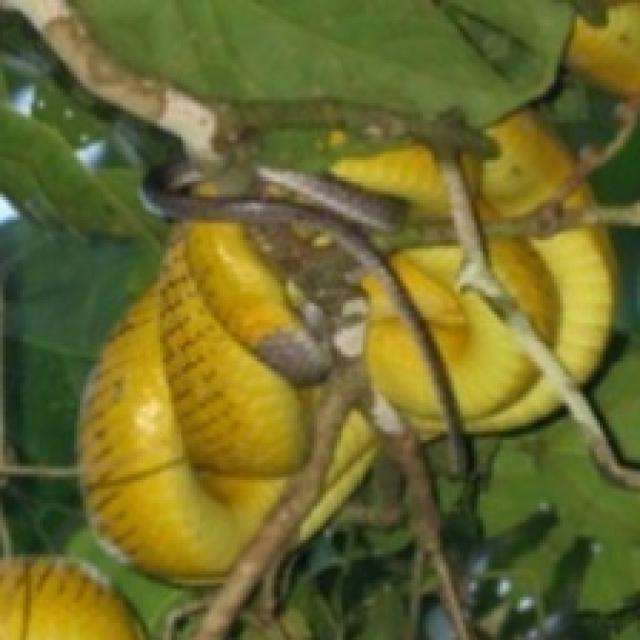red-tailed green ratsnake: (80, 143, 560, 580), (460, 109, 614, 383)
